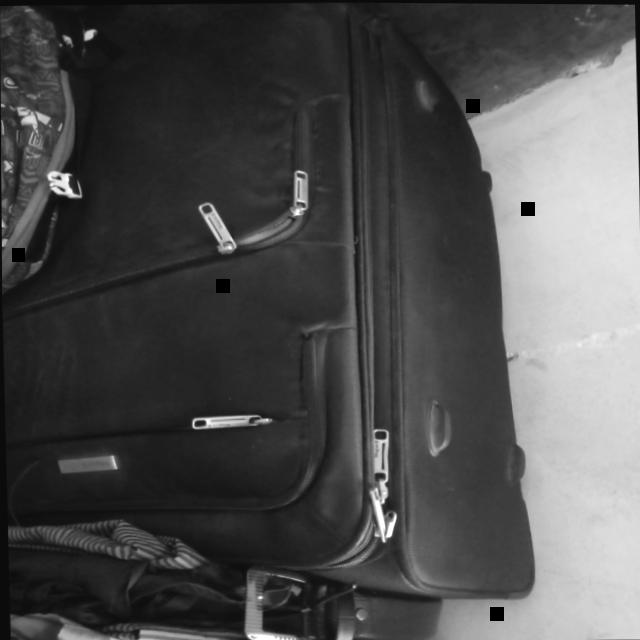luggage: (2, 2, 536, 601)
